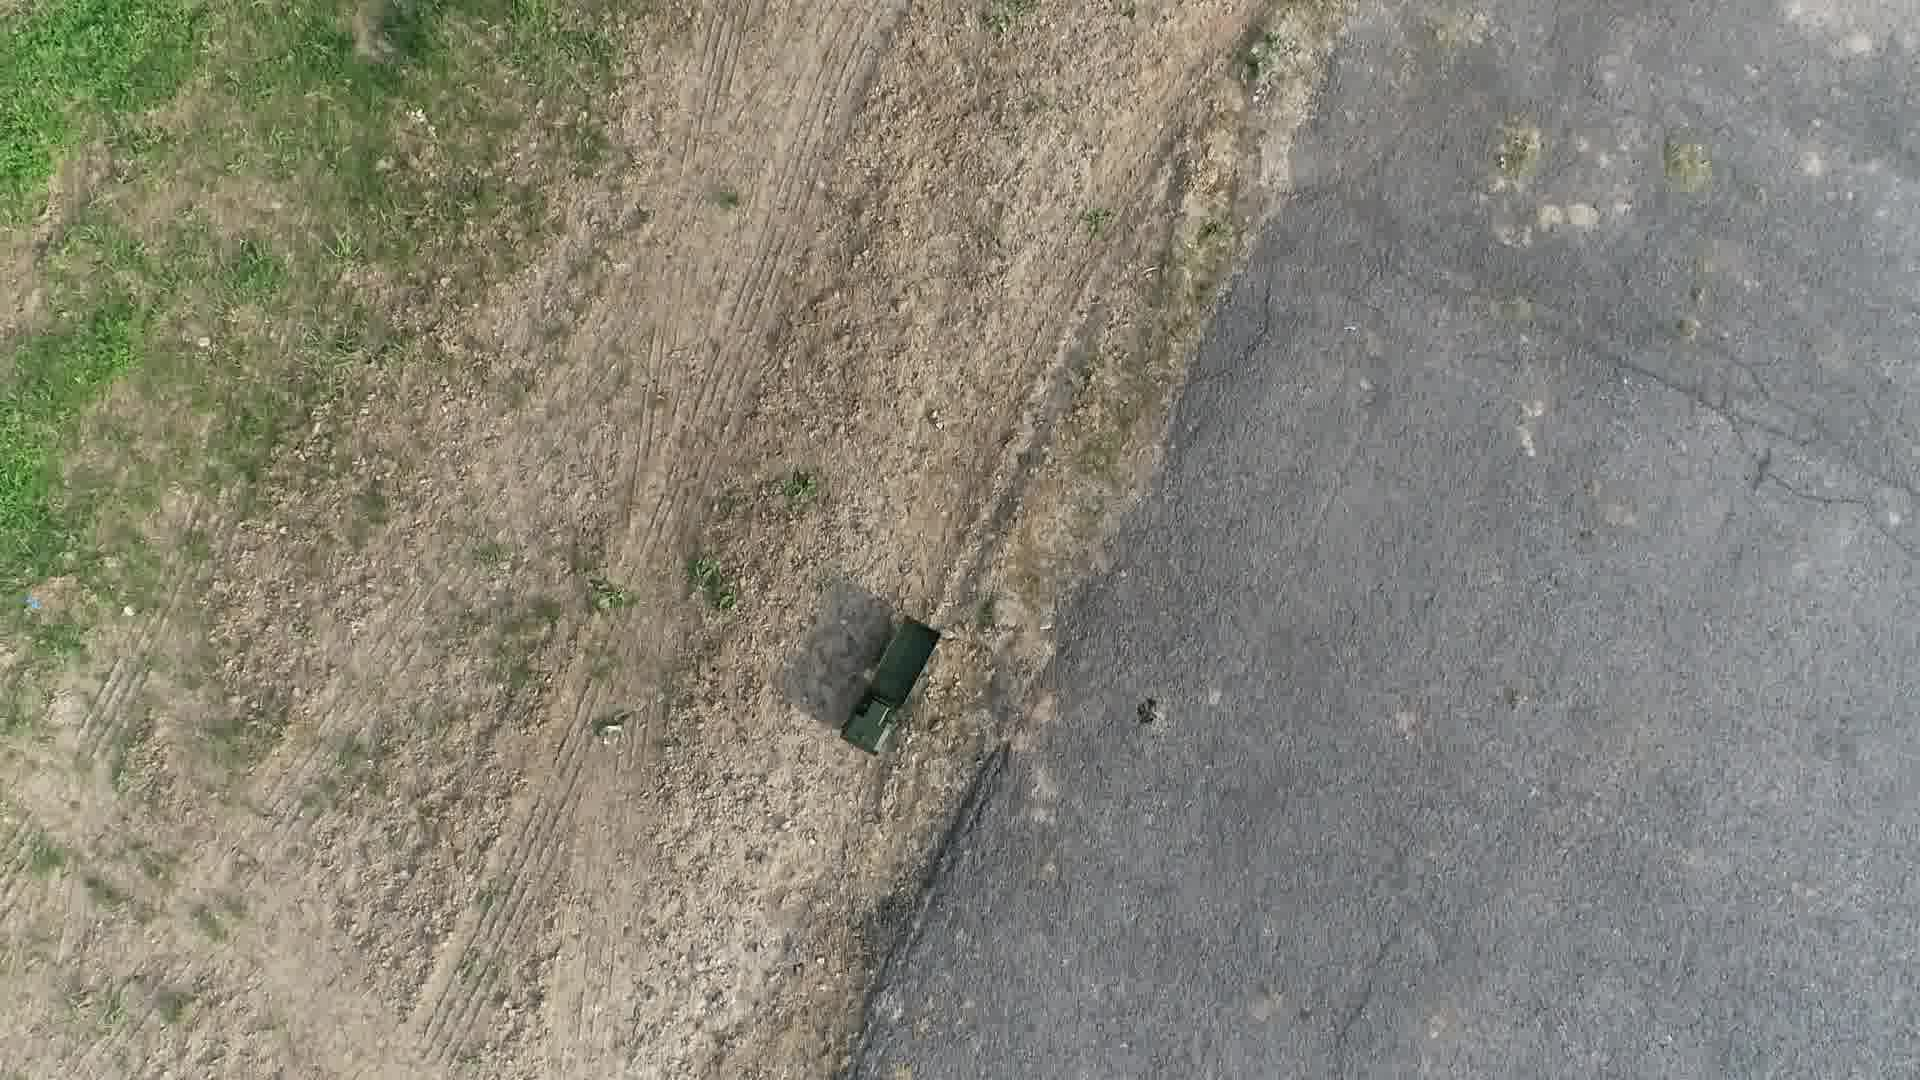transporter9: (833, 609, 945, 760)
